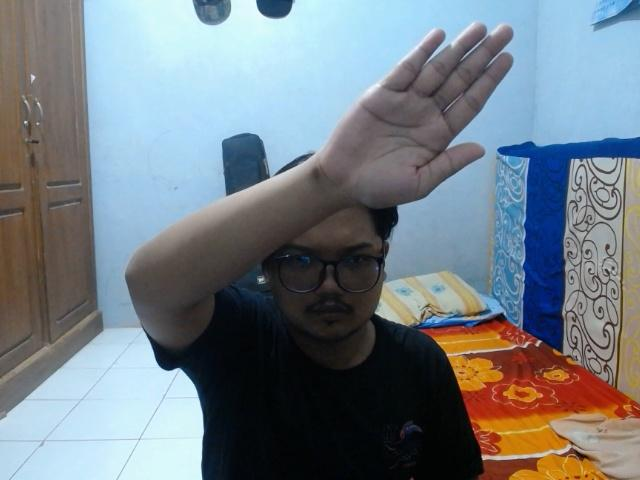Release: (312, 17, 517, 214)
